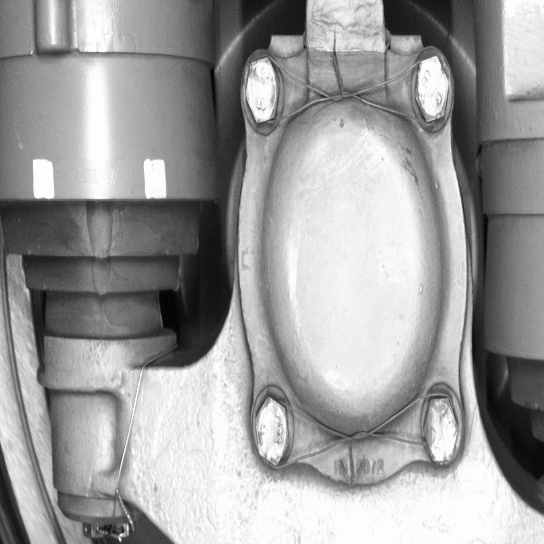IronWire: (237, 44, 462, 137), (246, 386, 467, 478)
Screw: (415, 384, 466, 476), (408, 44, 460, 132), (245, 387, 292, 471), (237, 50, 283, 134)
